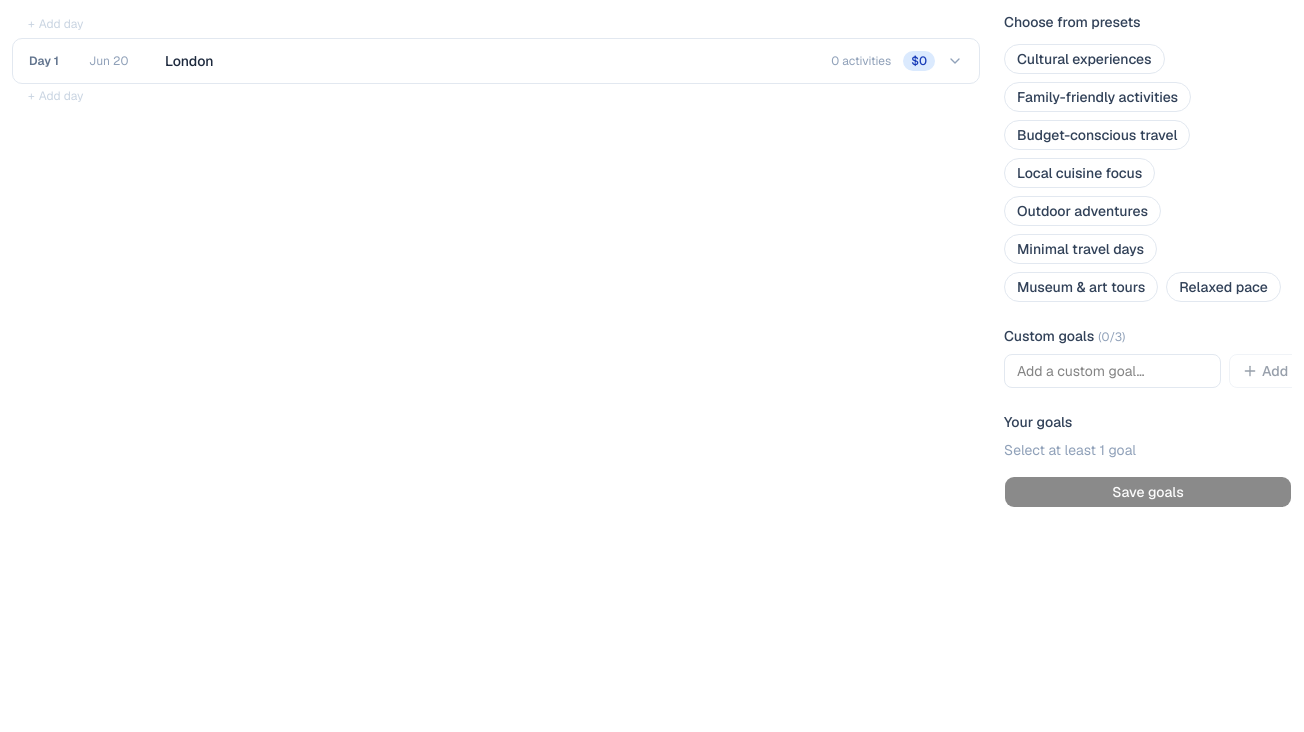
Test: Save goals button state › Save goals button is enabled after selecting at least one goal
The image size is (1304, 732).
Check: the text "Choose from presets" is shown, box [1004,13,1141,31]
Click the button "Cultural experiences" at (1084, 59), box [1004,44,1165,74]
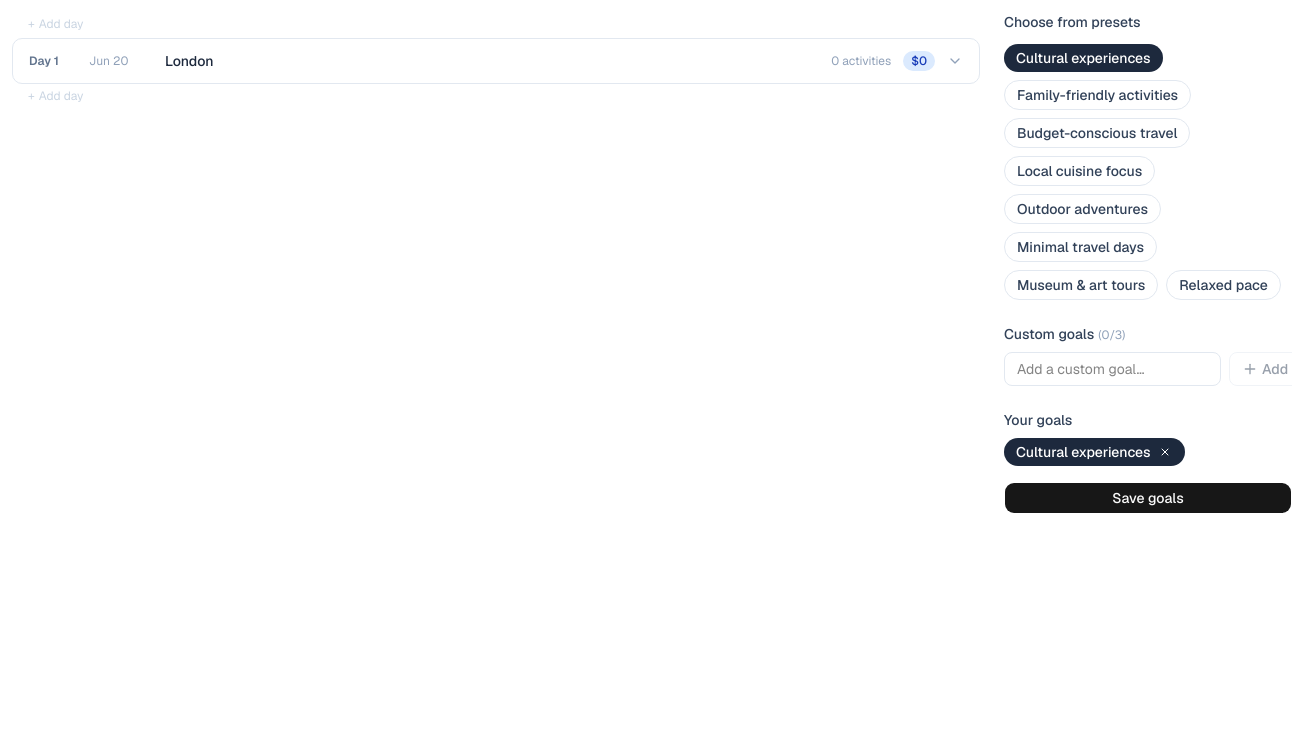
Check: the button "Save goals" is enabled, box [1004,482,1292,514]
